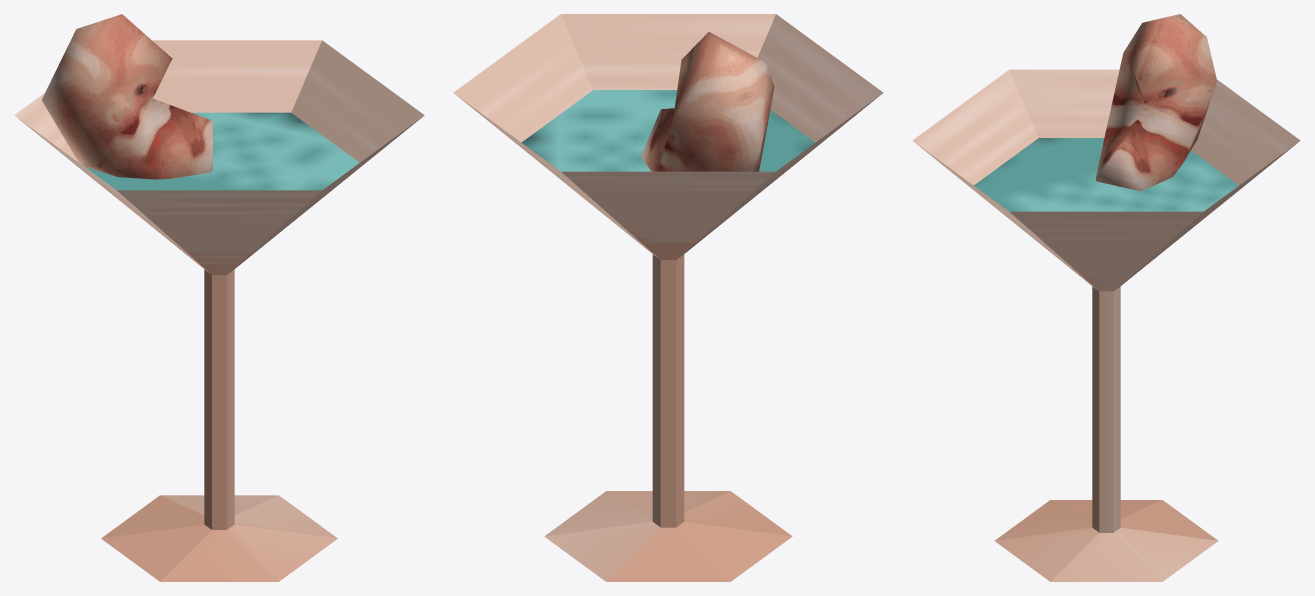
File: cocktail.fbx
3 views of the same model, side by side, from view 1: azimuth 30°, elevation 25°; view 2: azimuth 150°, elevation 25°; view 3: azimuth 270°, elevation 25° (orthographic). The views are drawn at different scales.
Visible parts, largest first — view 1: Cylinder, Cube, Cylinder.001; view 2: Cylinder, Cube, Cylinder.001; view 3: Cylinder, Cube, Cylinder.001.
Boxes of the visible parts, box(x1,y1,x2,y2) form: Cylinder: box(14, 40, 424, 581); Cube: box(41, 14, 212, 179); Cylinder.001: box(85, 112, 359, 190); Cylinder: box(453, 14, 883, 581); Cube: box(641, 32, 774, 171); Cylinder.001: box(521, 90, 815, 171); Cylinder: box(912, 69, 1300, 581); Cube: box(1095, 14, 1216, 191); Cylinder.001: box(974, 138, 1238, 211).
Size of the model in its own units: 520 by 838 by 600.
2 materials, 2 textured.
